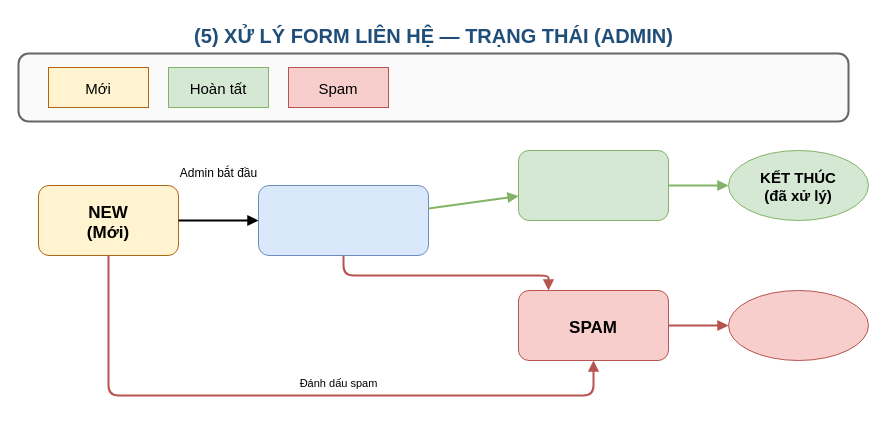
Image size: 886x421. Some labels were removed from this diagram. The shapes that lost their labels are listed below. From the top down, each one's box as (x1, y1, x2, y2) in pixels, then its label:
(518, 150, 668, 220): DONE (Hoàn tất)
(258, 184, 428, 256): IN_PROGRESS (Đang xử lý)
(728, 290, 868, 360): KẾT THÚC (loại bỏ)
